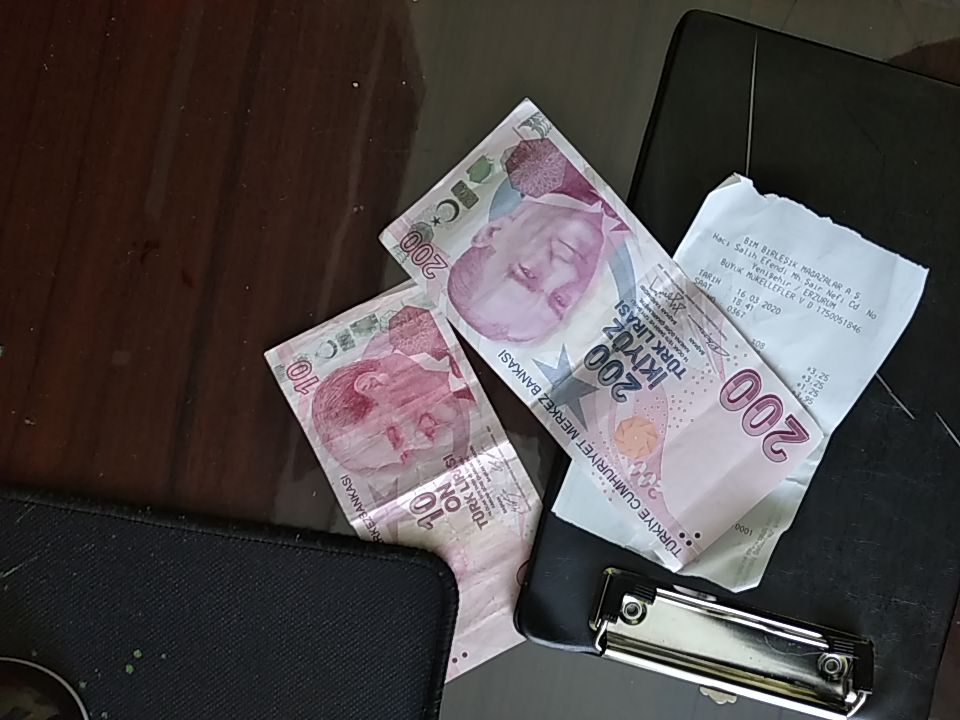200TL: (376, 95, 826, 575)
